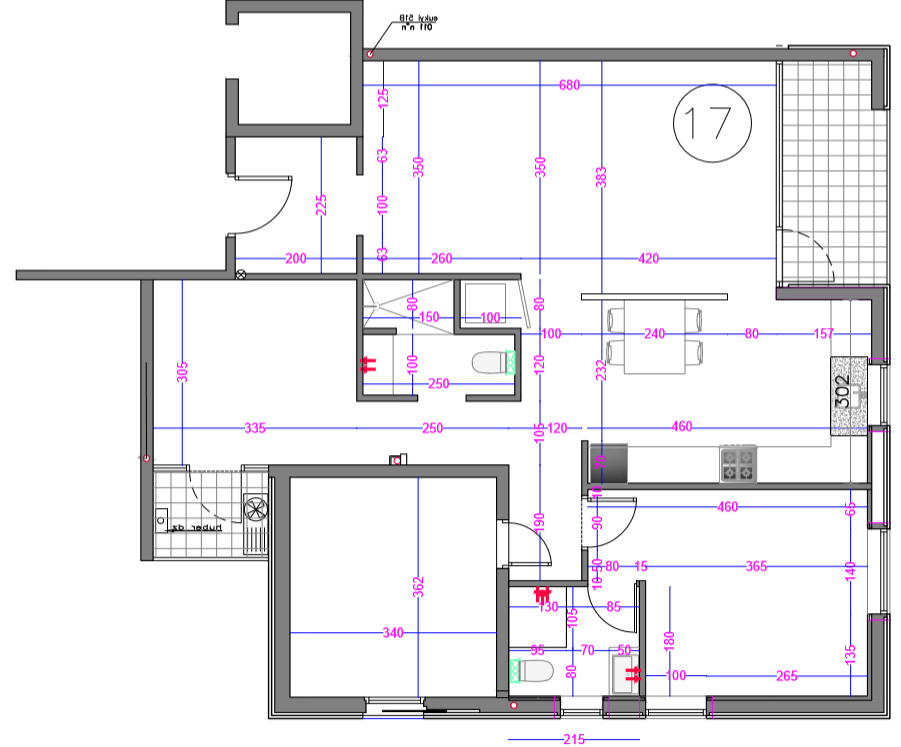door: (237, 173, 303, 245), (787, 222, 843, 283), (592, 498, 643, 557), (186, 478, 243, 525), (511, 517, 557, 567)
wall: (409, 50, 774, 62), (276, 468, 289, 707), (12, 267, 235, 280), (277, 464, 500, 474), (226, 124, 363, 137), (716, 701, 882, 709), (257, 273, 514, 278), (496, 569, 505, 688), (353, 6, 361, 132), (277, 697, 357, 708), (622, 484, 842, 488), (238, 124, 345, 132), (230, 1, 358, 7), (781, 289, 881, 296), (873, 621, 881, 708), (427, 699, 506, 707), (228, 81, 237, 149), (357, 280, 362, 396), (454, 281, 458, 333), (515, 336, 519, 388), (364, 396, 414, 399), (468, 396, 518, 399)
window: (863, 525, 894, 616), (772, 58, 786, 230), (361, 690, 430, 719), (642, 697, 712, 723), (866, 360, 891, 428), (151, 464, 190, 473), (240, 462, 271, 473)
